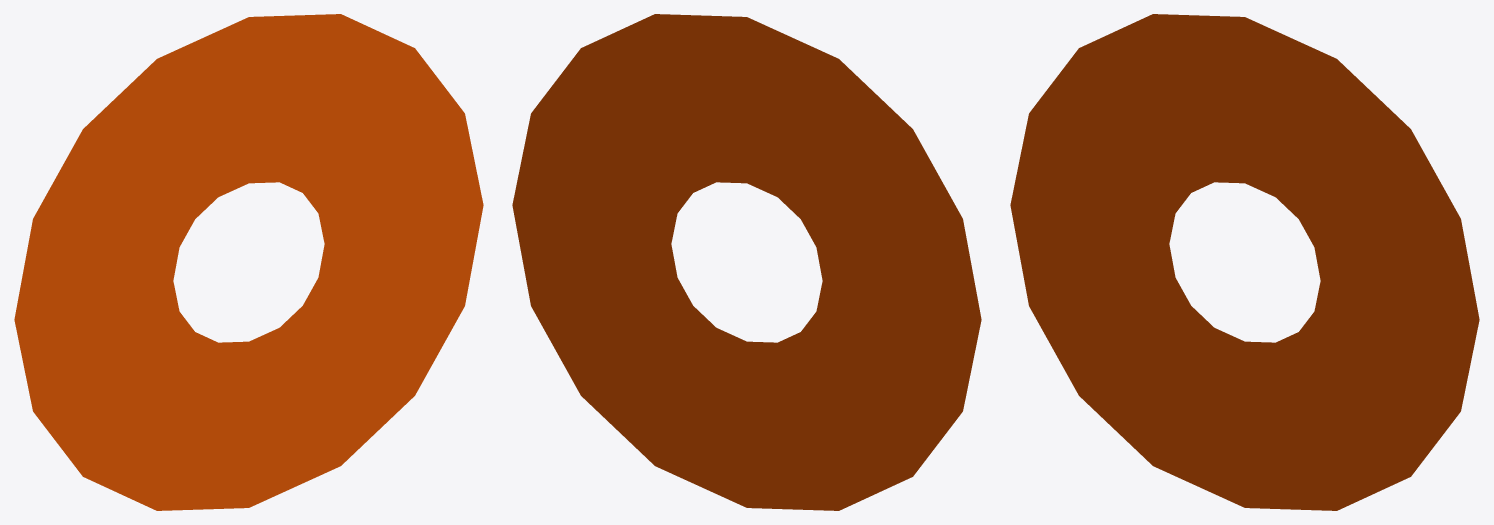
Rendered from ContourOrange.fbx.
The picture shows the model from 3 angles, left to right: view 1: azimuth 30°, elevation 25°; view 2: azimuth 150°, elevation 25°; view 3: azimuth 330°, elevation 25°; orthographic projection.
Visible parts, largest first — view 1: Object003; view 2: Object003; view 3: Object003.
Boxes of the visible parts, <box> form: Object003: <box>14,14,483,510</box>; Object003: <box>512,14,981,510</box>; Object003: <box>1010,14,1479,510</box>.
Size of the model in its own units: 92.88 by 92.88 by 1.51e-05.
